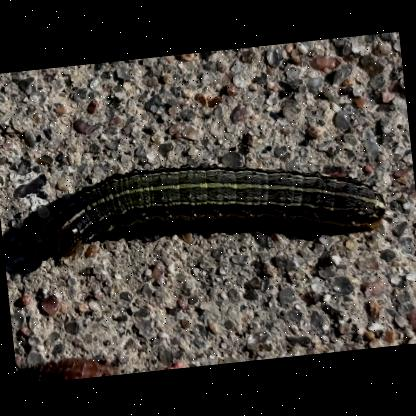Fall Armyworm Larvae: (20, 127, 398, 271)
